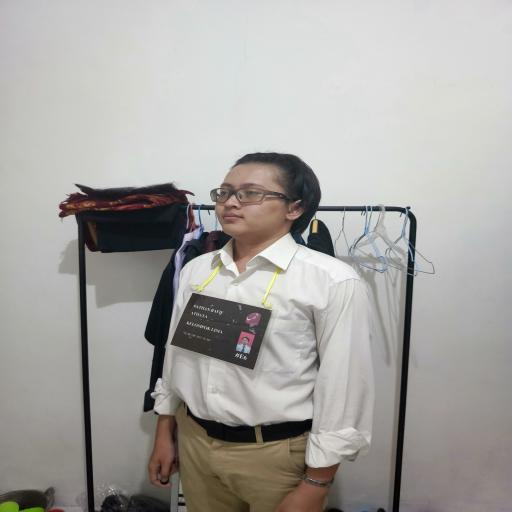celana_salah: (172, 438, 328, 512)
kemeja_benar: (160, 249, 380, 426)
sabuk_ada: (176, 416, 324, 446)
